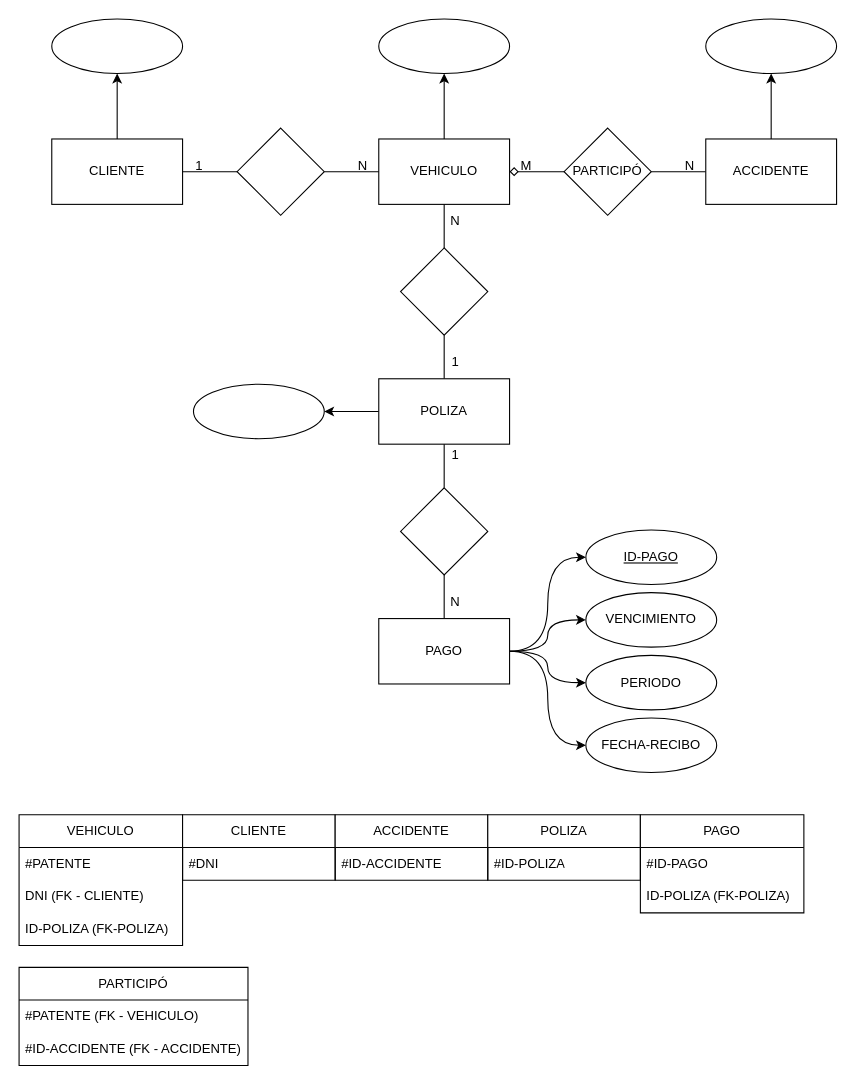
This 856x1085 diagram has some shape labels left out. Here are the shapes that lost their labels. From the top down, the box of each, then its label:
(51, 18, 183, 74): DNI
(378, 18, 510, 74): PATENTE
(705, 18, 837, 74): ID_ACCIDENTE
(236, 127, 324, 215): TIENE
(399, 247, 488, 335): CUBRE
(192, 383, 324, 439): ID-POLIZA
(399, 487, 488, 575): PAGÓ
